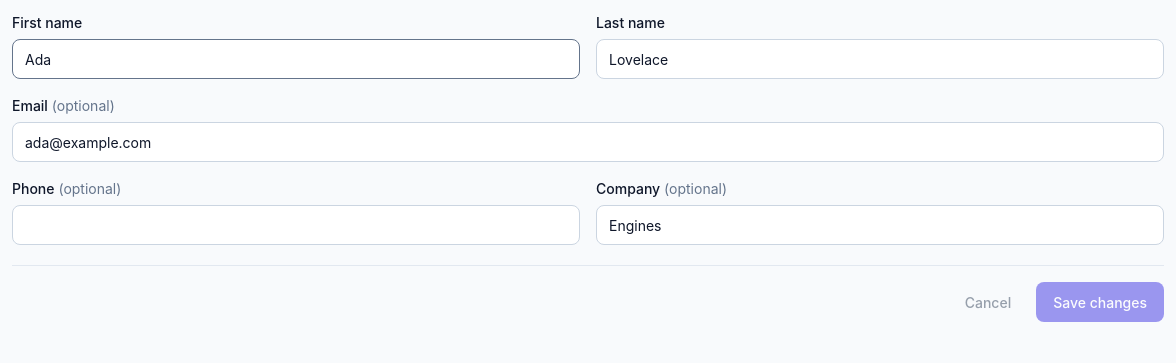
Scenario: ContactForm › puts a duplicate email error on the email field
The width and height of the screenshot is (1176, 363).
Replace the text in the field labelled "Email (optional)" with "grace@example.com" at (588, 142), box [12,122,1164,162]
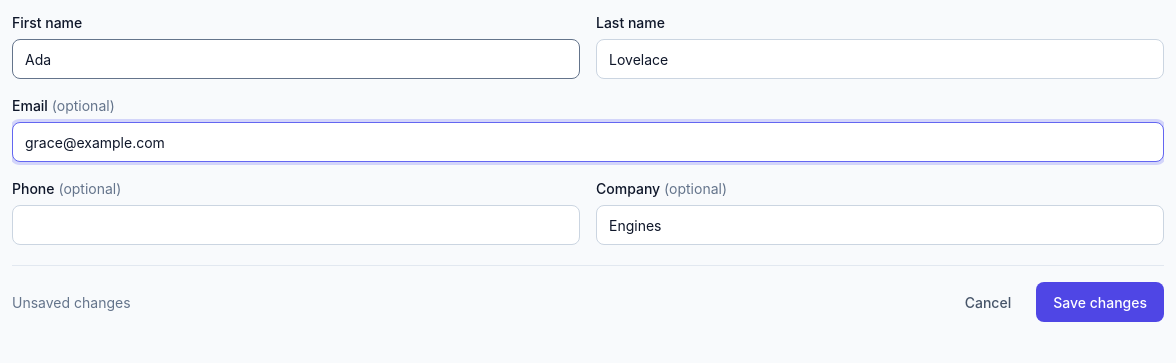
Click the button "Save changes".
click(1100, 302)  # box [1036,282,1164,322]
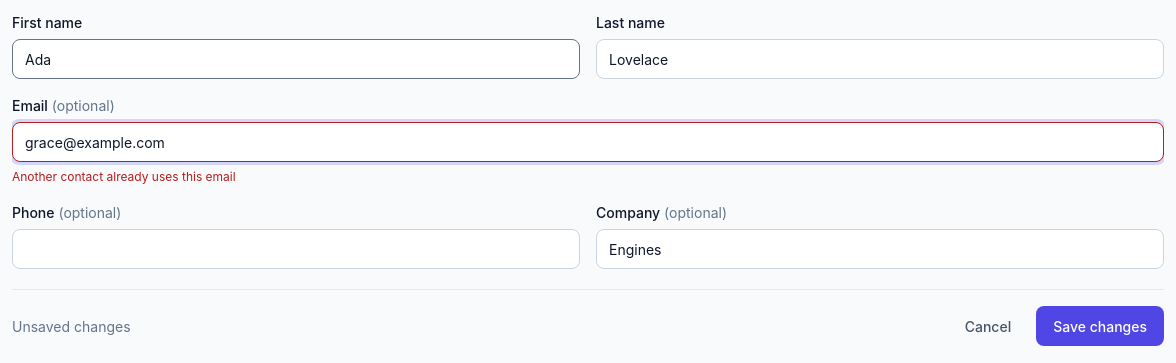
Expected: the text "Another contact already uses this email" is shown, [12,169,236,184]
